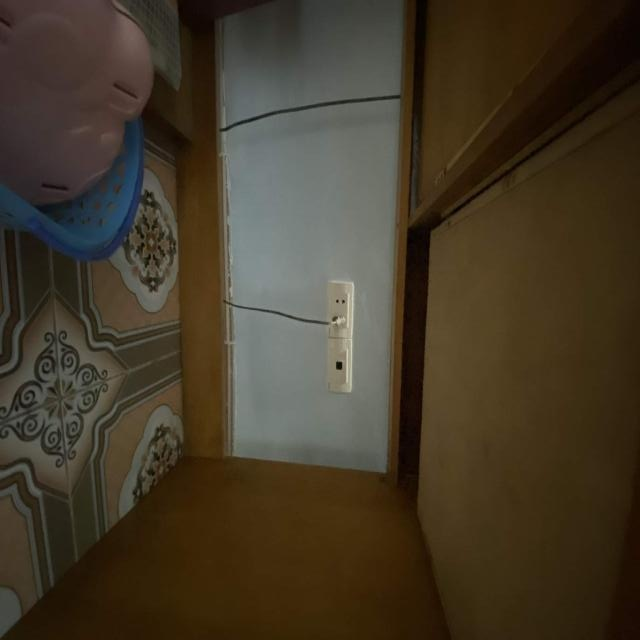outlet: (327, 280, 354, 338), (327, 338, 353, 393)
